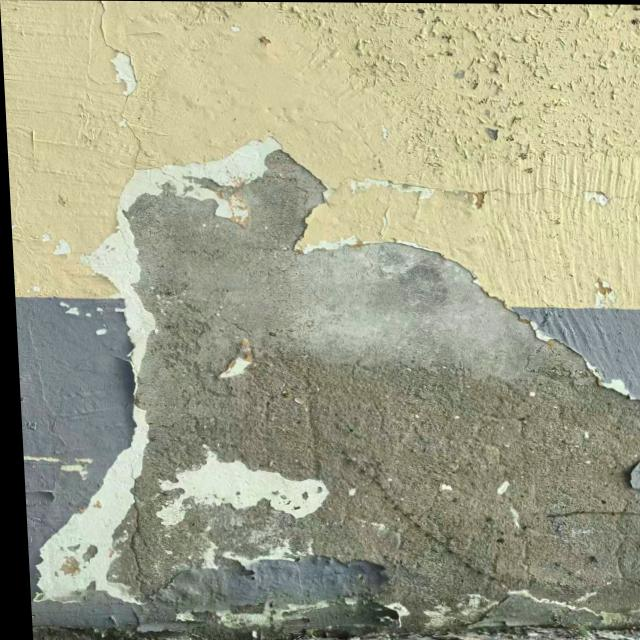crack: (342, 167, 638, 208), (12, 93, 145, 167), (90, 1, 118, 55)
spalling: (31, 127, 640, 638), (108, 49, 142, 101), (589, 276, 622, 314)
